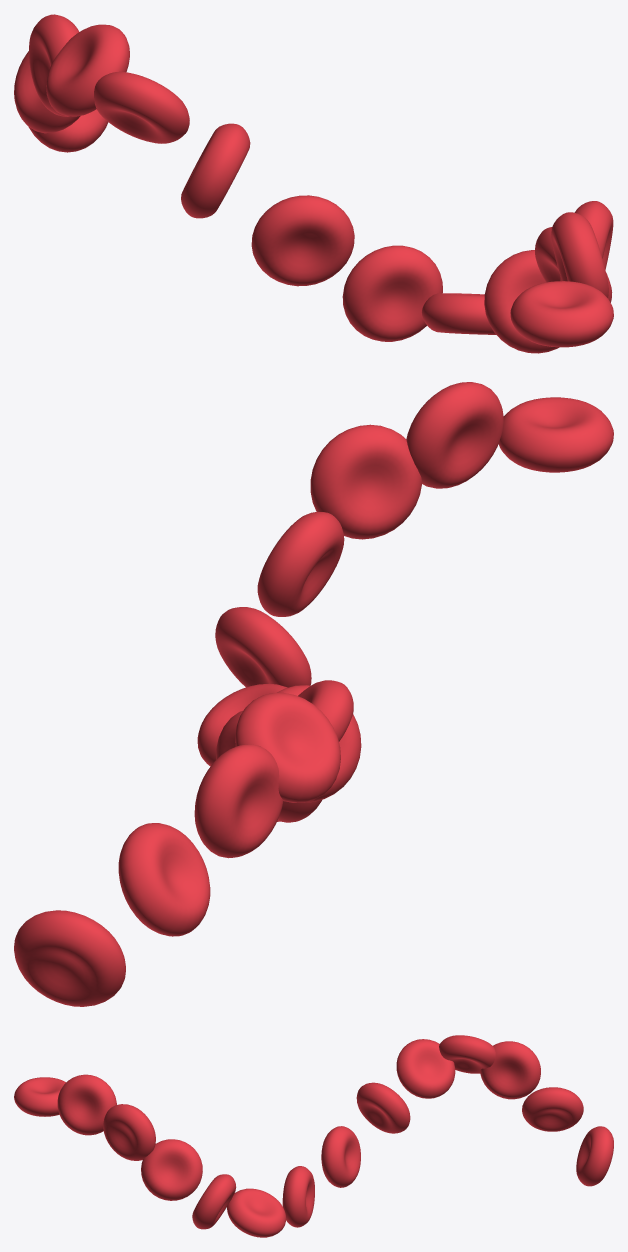
File: E21_Blood_Stream_Cells.glb
3 views of the same model, one above another, from view 1: azimuth 30°, elevation 25°; view 2: azimuth 150°, elevation 25°; view 3: azimuth 270°, elevation 25° (orthographic). The views are drawn at different scales.
Parts seen in each view (by area): view 1: E21_Blood_Stream_Cells_Mesh; view 2: E21_Blood_Stream_Cells_Mesh; view 3: E21_Blood_Stream_Cells_Mesh.
Part boxes in pixels (x1,y1,x2,y2): E21_Blood_Stream_Cells_Mesh: [14, 14, 613, 353]; E21_Blood_Stream_Cells_Mesh: [14, 382, 613, 1006]; E21_Blood_Stream_Cells_Mesh: [14, 1035, 613, 1237].
Size of the model in its own units: 3.15 by 2.41 by 8.72.
